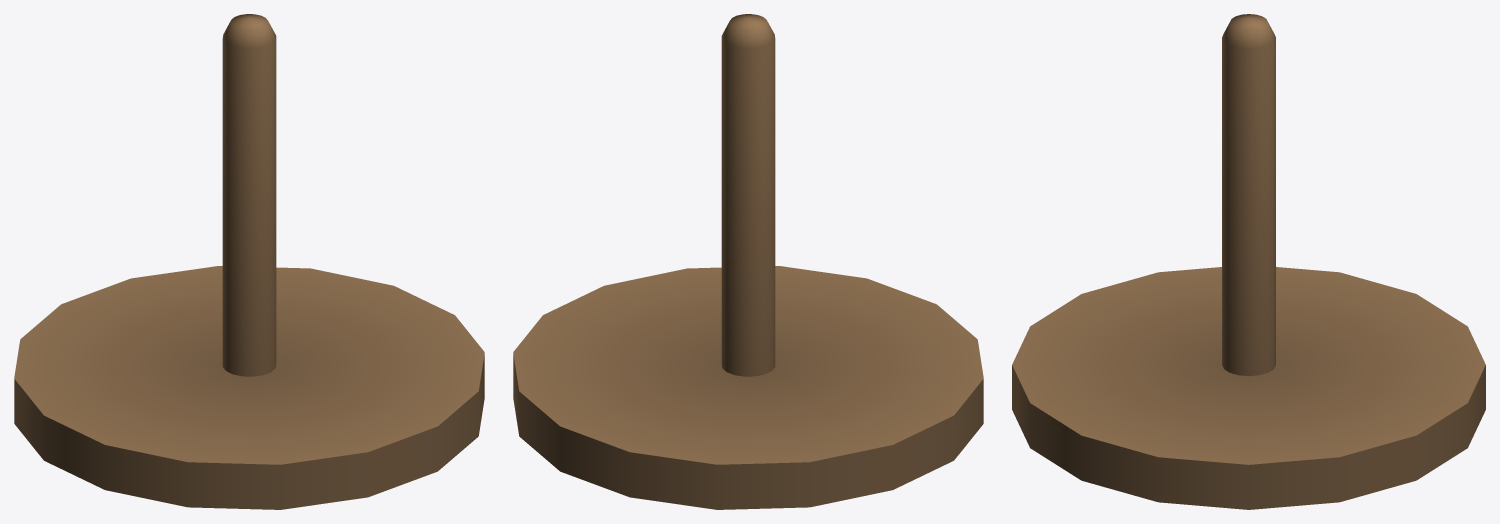
The model's file is human-toys-stacking-toy_v2.glb.
3 renders of one model, left to right at view 1: azimuth 30°, elevation 25°; view 2: azimuth 150°, elevation 25°; view 3: azimuth 270°, elevation 25°, orthographic.
Parts seen in each view (by area): view 1: Stacking Toy_v2; view 2: Stacking Toy_v2; view 3: Stacking Toy_v2.
Boxes of the visible parts, bbox=[...] form: Stacking Toy_v2: bbox=[14, 14, 484, 509]; Stacking Toy_v2: bbox=[513, 14, 983, 509]; Stacking Toy_v2: bbox=[1012, 14, 1485, 509].
Size of the model in its own units: 0.2 by 0.1821 by 0.2.
